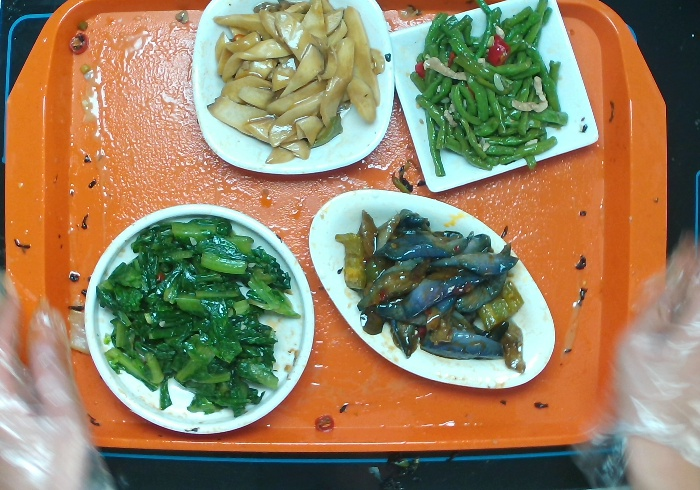HZYJPL-Si_Fang_Die: (376, 1, 603, 196)
HZYJPL-Si_Fang_Yuan_Die: (182, 1, 406, 180)
HZYJPL-Xiao_Yu_Die: (301, 182, 564, 413)
HZYJPL-Xiao_Yuan_Die: (80, 195, 322, 438)
